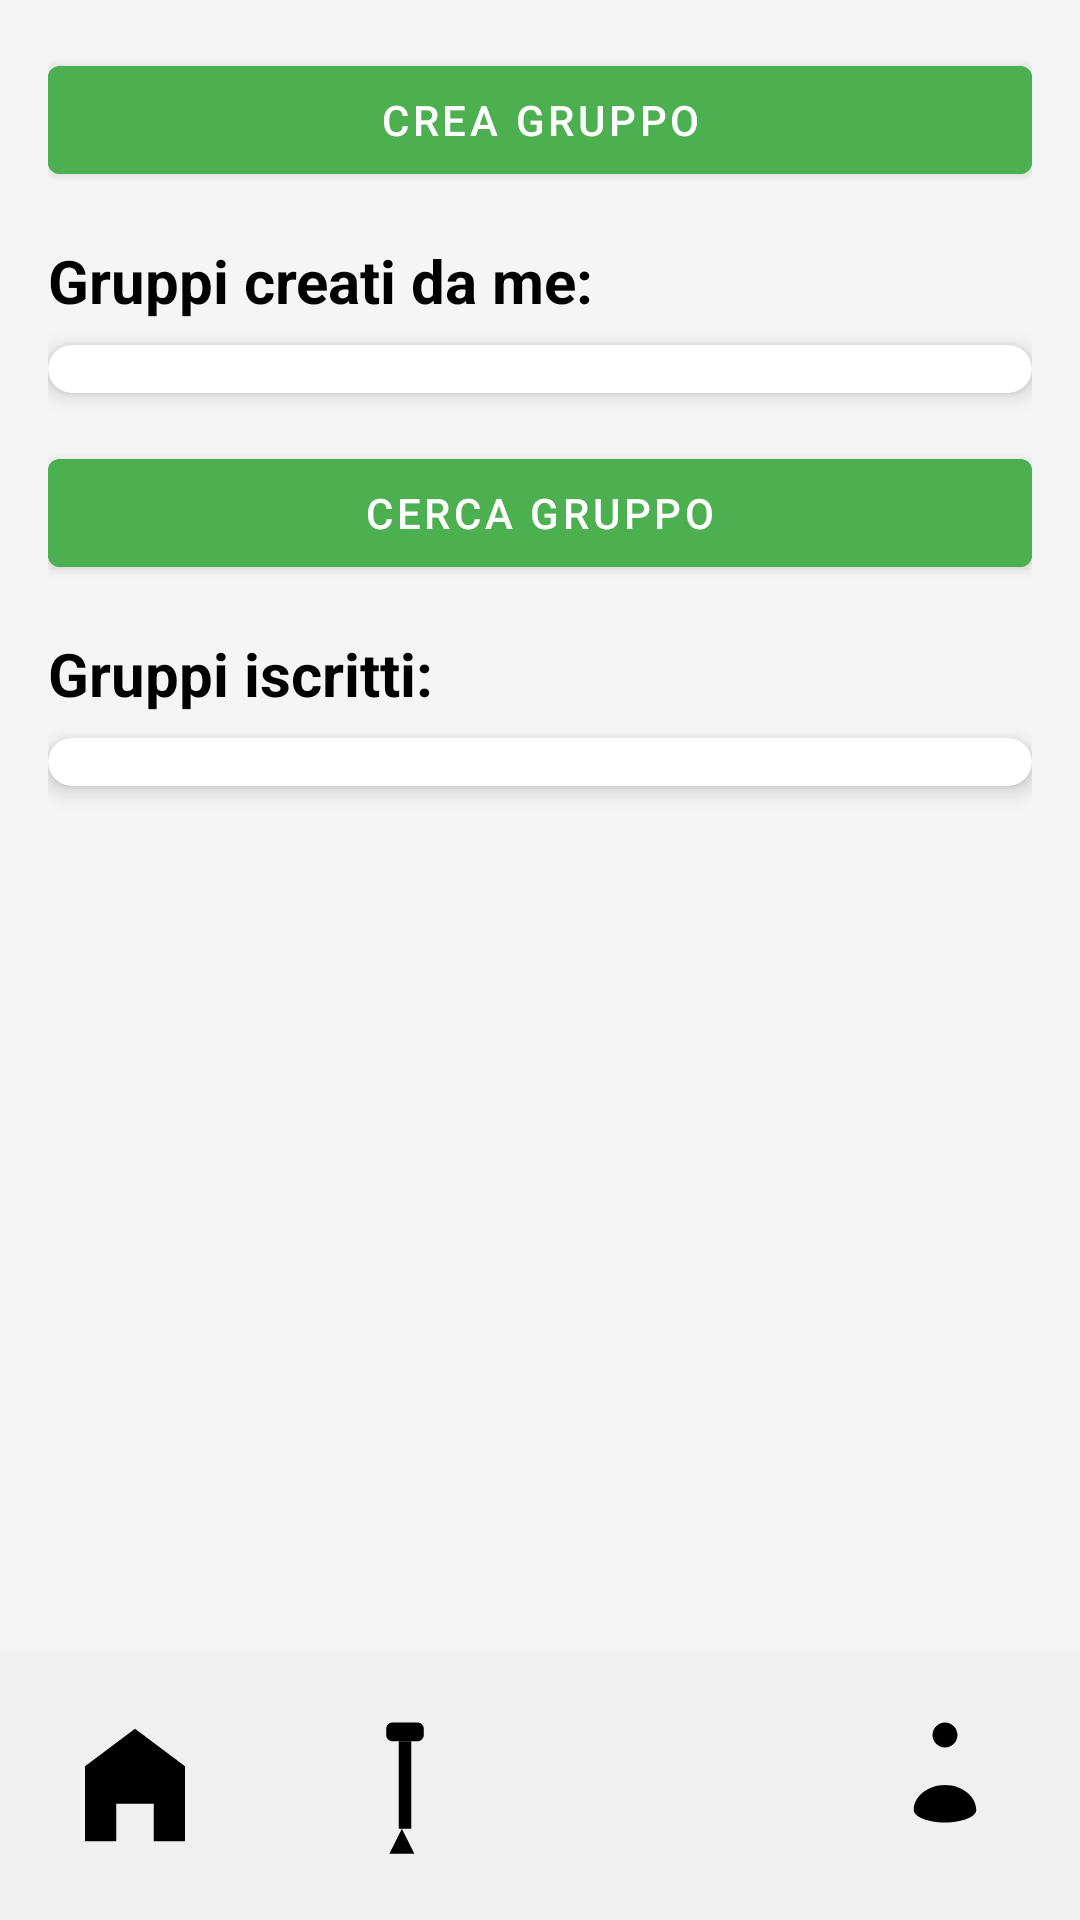

Icons on this 1080px x 1920px Android screen, each with its box as BBox(x1, y1, x2, y2):
Home: BBox(85, 1729, 185, 1842)
Profilo: BBox(913, 1722, 977, 1823)
tool: BBox(386, 1722, 424, 1854)
